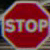Stop: (1, 5, 47, 41)
